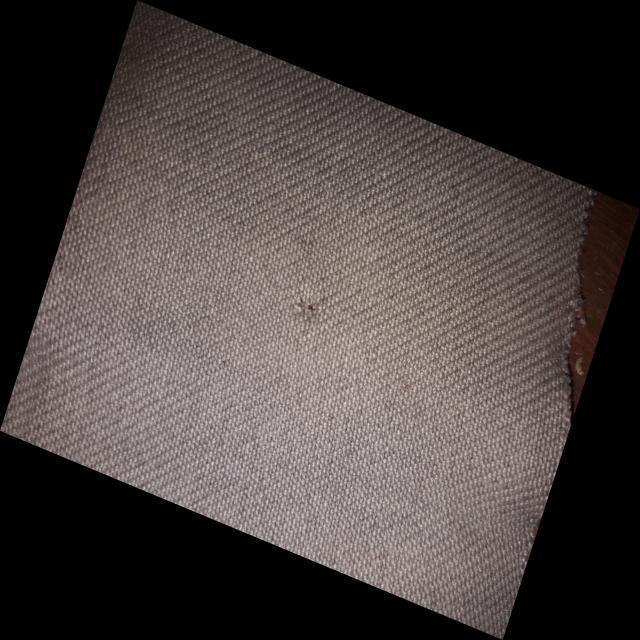seam: (292, 293, 338, 323)
